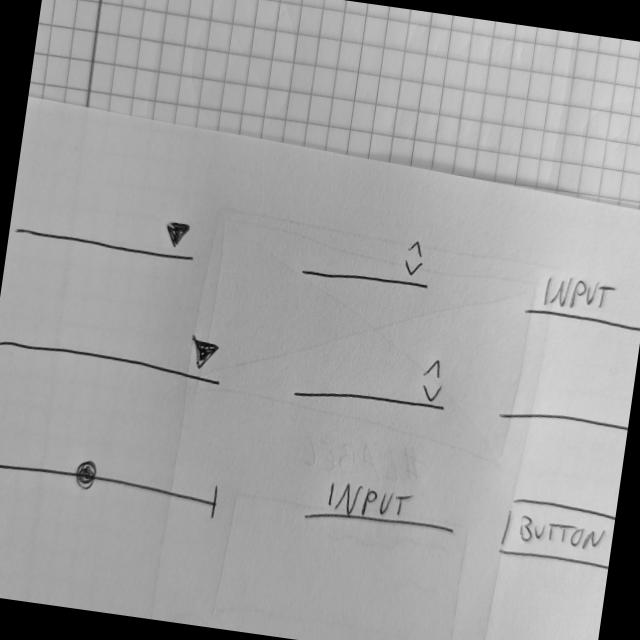button: (494, 491, 618, 574)
input: (303, 471, 466, 547), (520, 264, 640, 337)
number-input: (291, 334, 457, 424), (297, 218, 440, 299)
select: (1, 301, 236, 393), (10, 193, 204, 269), (493, 374, 634, 444)
slider: (1, 443, 225, 525)
